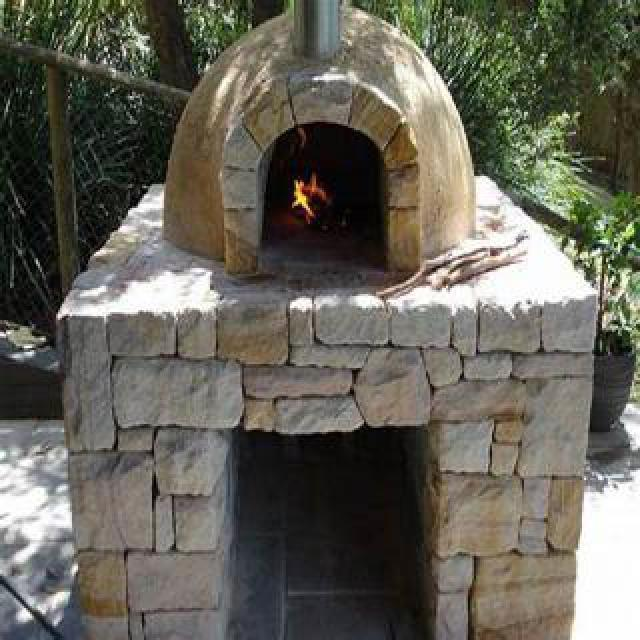Fire: (282, 160, 334, 232)
